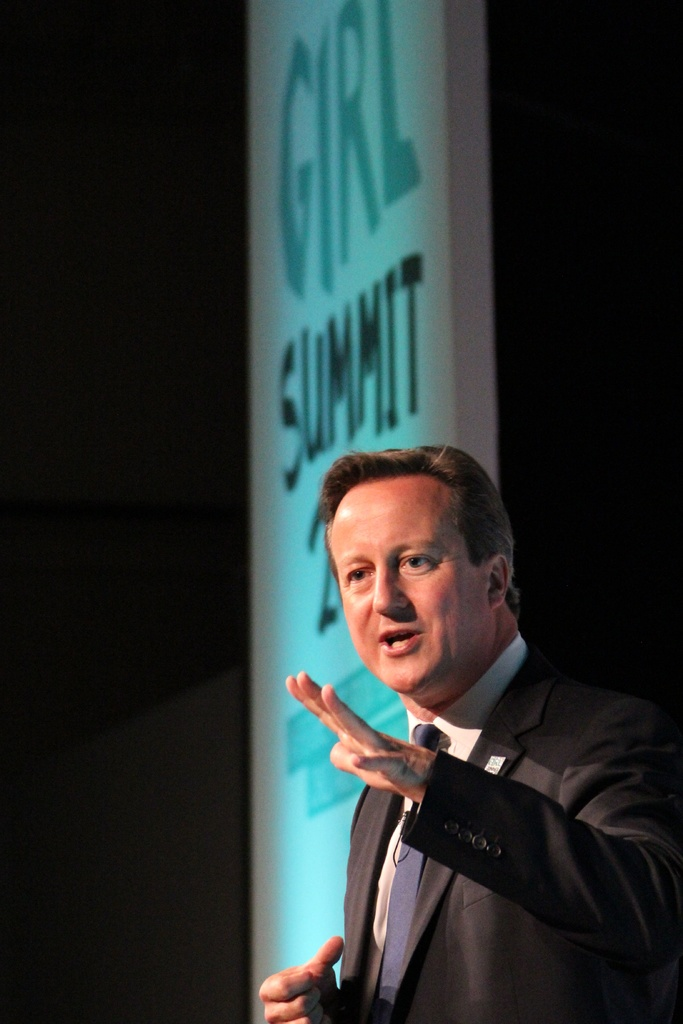Human_hand: (283, 667, 445, 802), (275, 939, 354, 1014)
